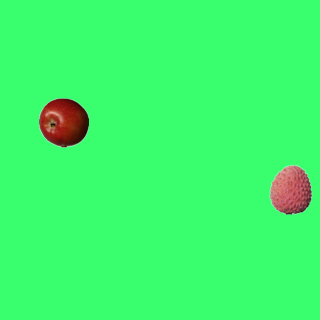Apple Braeburn: (38, 97, 88, 147)
Lychee: (265, 164, 315, 214)
